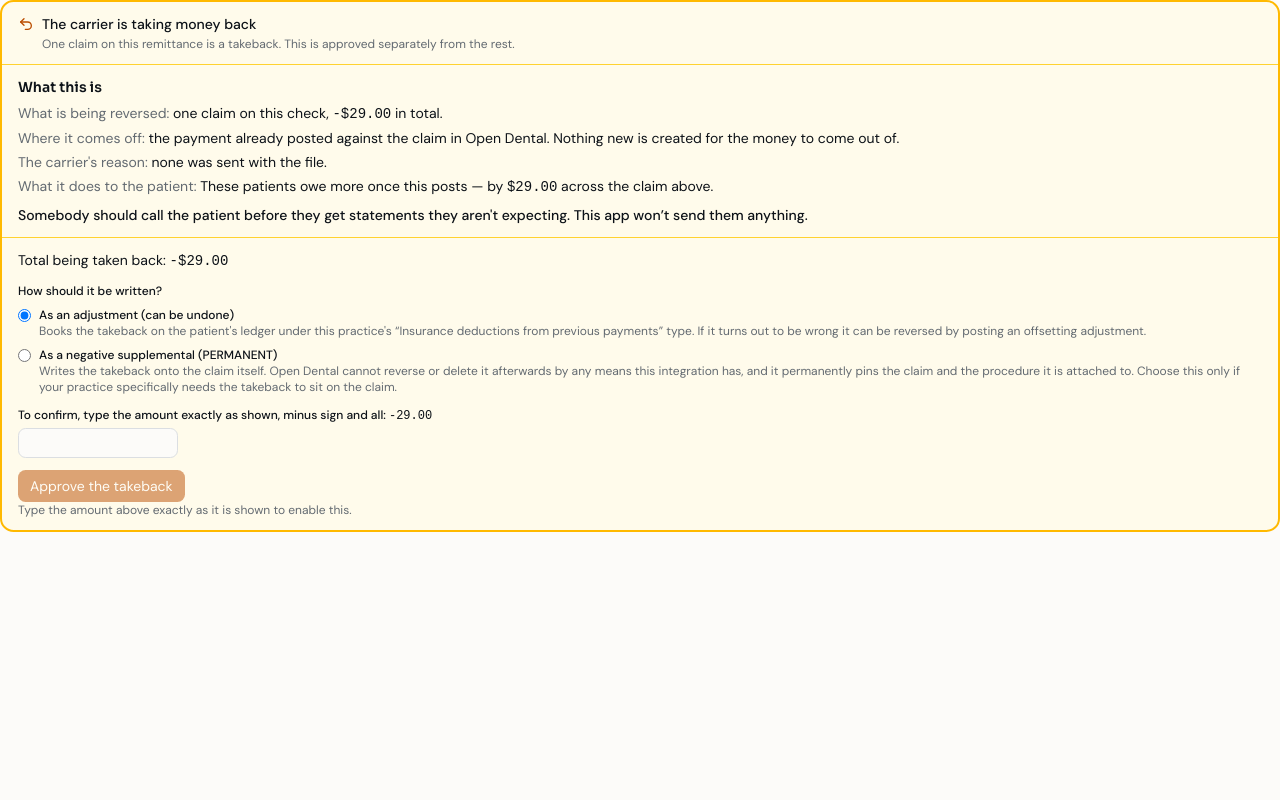
W-4 · the permanent path cannot become selected by a single click › declines back to the adjustment, by button or by Escape
The width and height of the screenshot is (1280, 800).
Click the 2nd radio button at (24, 356), box [18, 349, 31, 362]
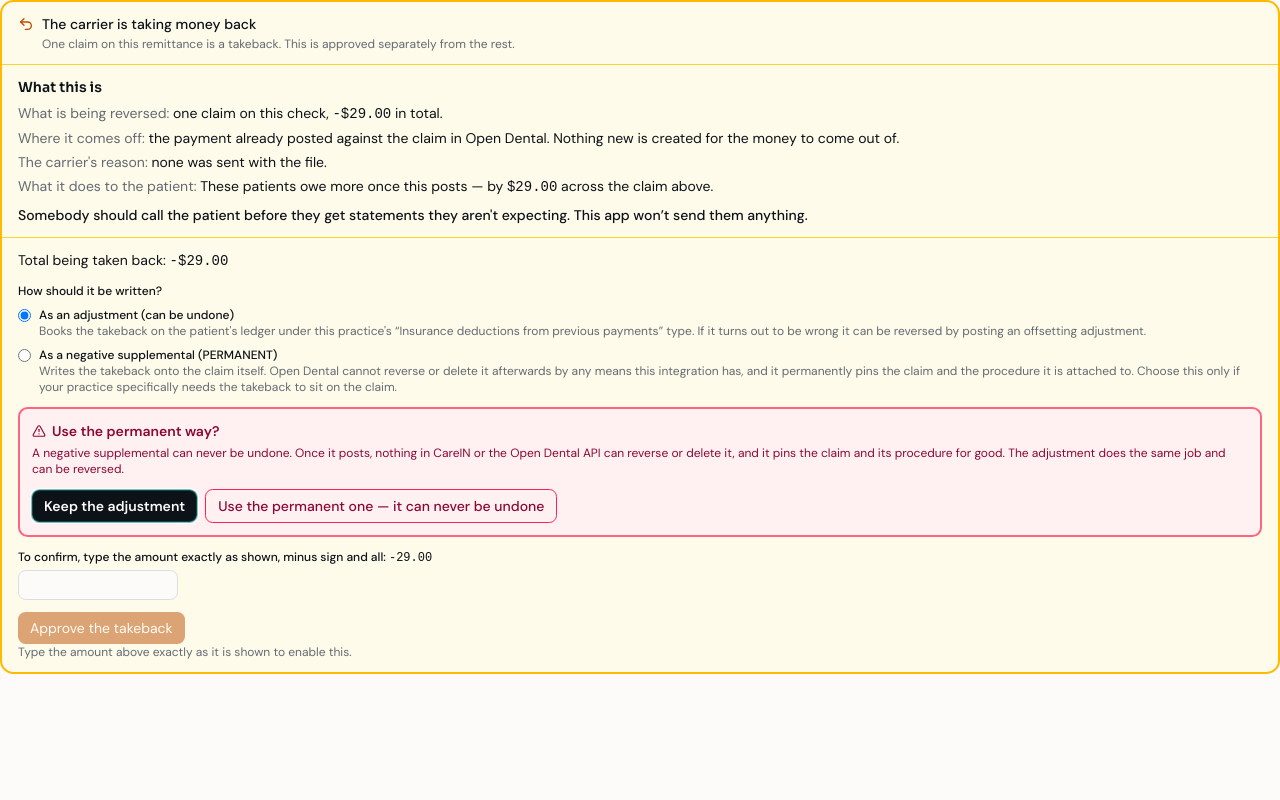
Click the button with test id "recoupment-permanent-cancel" at (115, 506), box [32, 490, 197, 522]
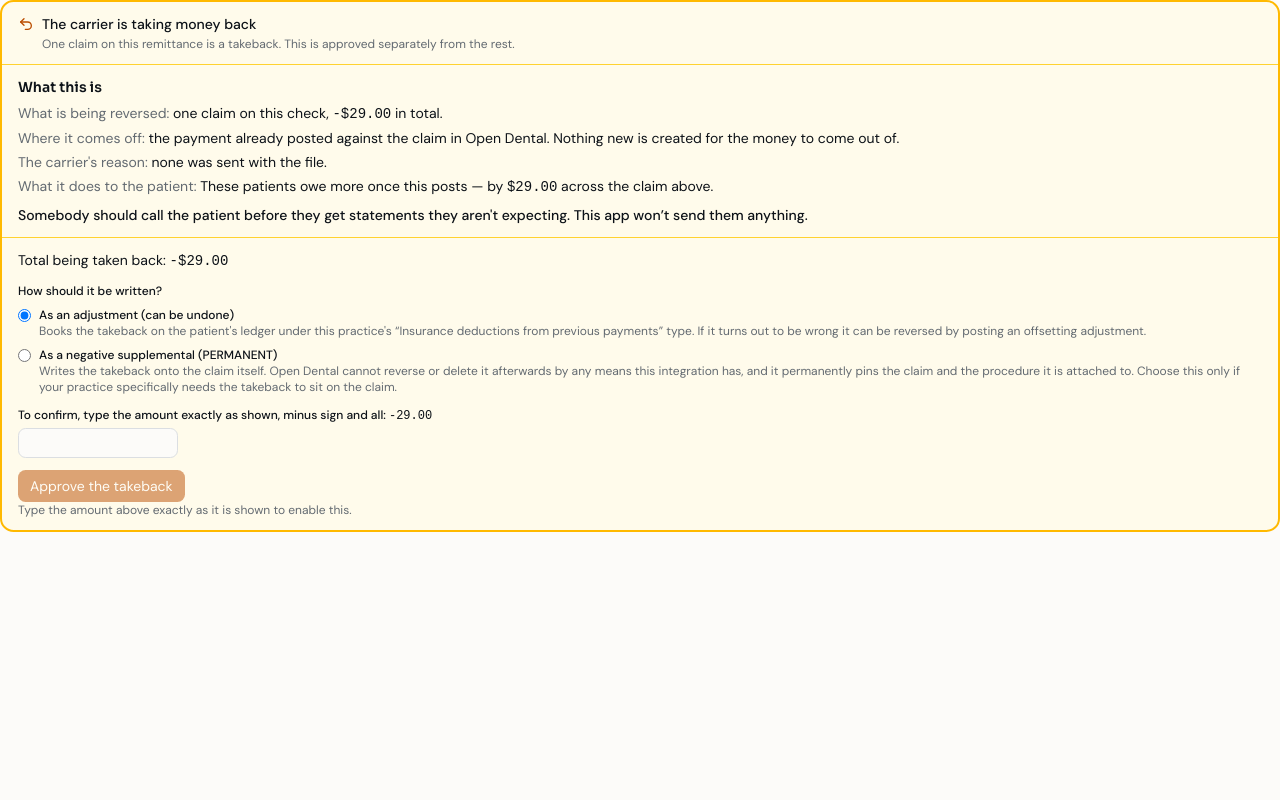
expect the element with test id "recoupment-permanent-confirm" is gone: met
Click the 2nd radio button at (24, 356), box [18, 349, 31, 362]
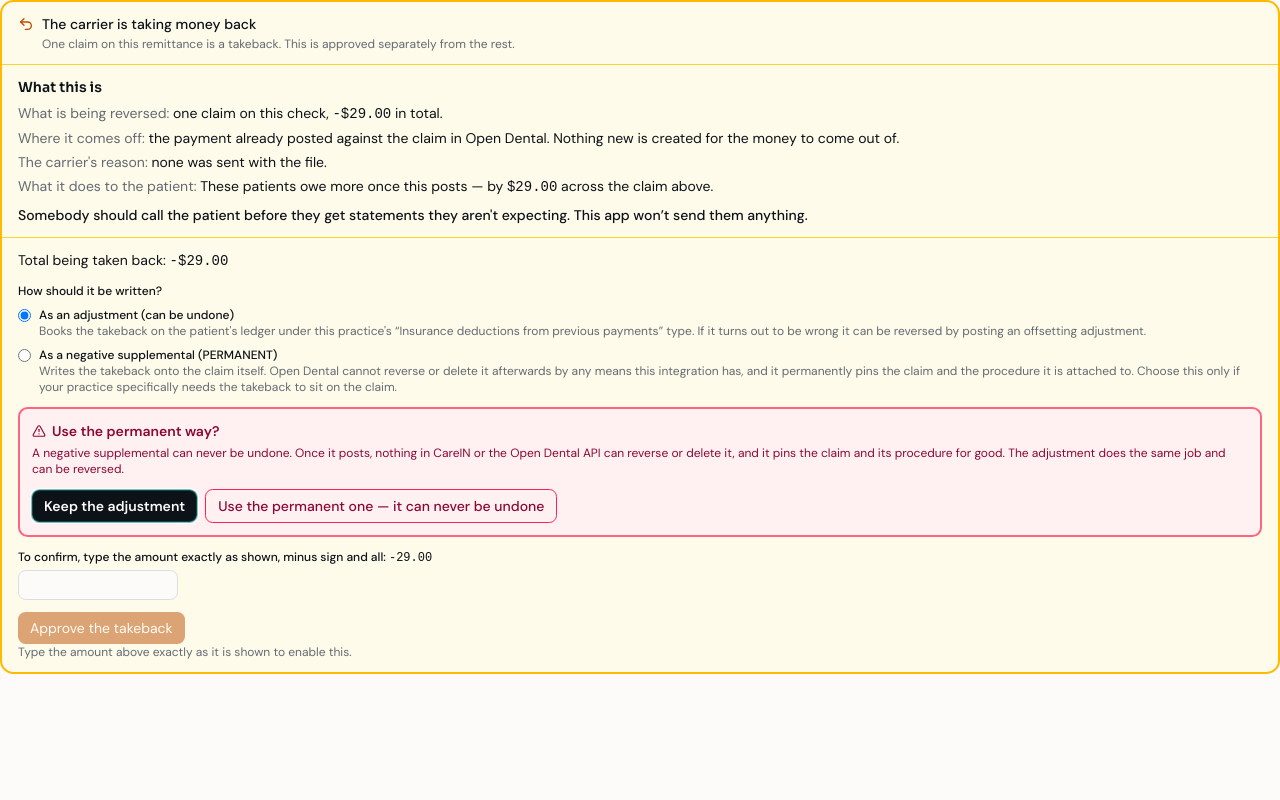
Press Escape in the element with test id "recoupment-permanent-confirm", box [18, 407, 1262, 537]
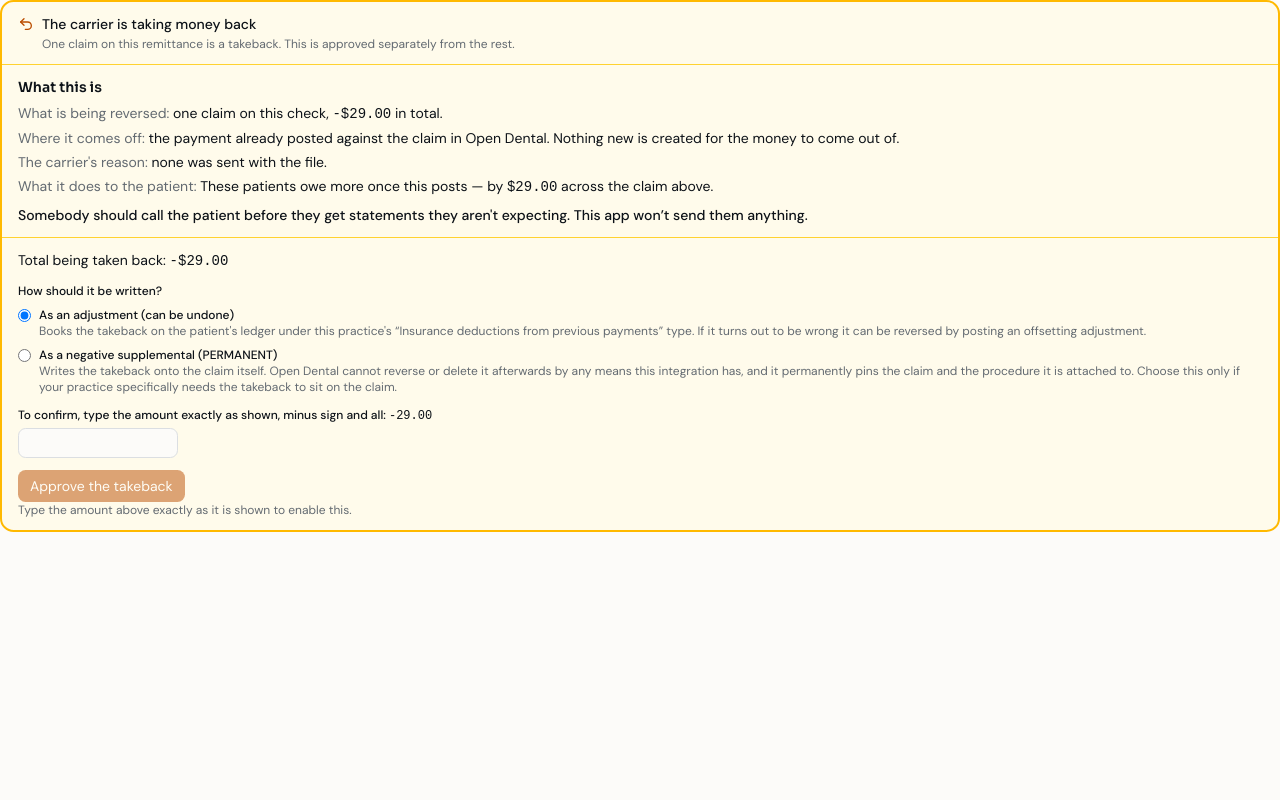
expect the element with test id "recoupment-permanent-confirm" is gone: met
